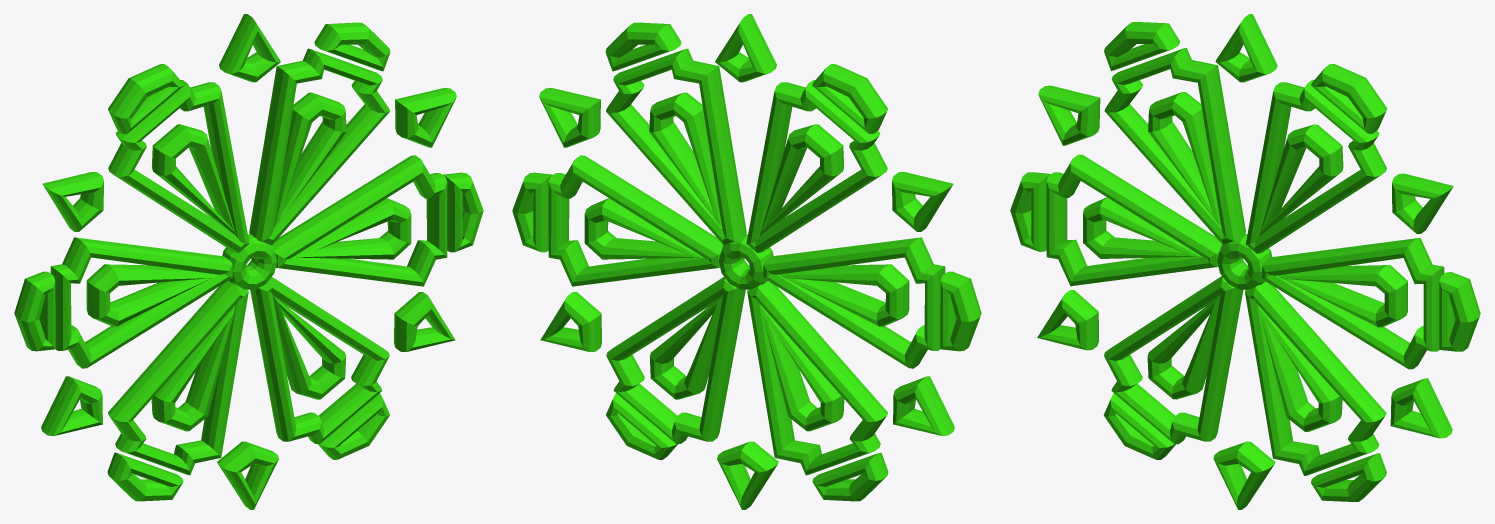
File: pinhaoN.glb
3 views of the same model, side by side, from view 1: azimuth 30°, elevation 25°; view 2: azimuth 150°, elevation 25°; view 3: azimuth 330°, elevation 25° (orthographic).
Parts seen in each view (by area): view 1: root; view 2: root; view 3: root.
Part boxes in pixels (box(x1,y1,x2,y2)): root: box(14, 14, 483, 509); root: box(512, 14, 981, 509); root: box(1010, 14, 1480, 509).
Bounding box in the file's own units: 6.24 × 6.34 × 0.36.
